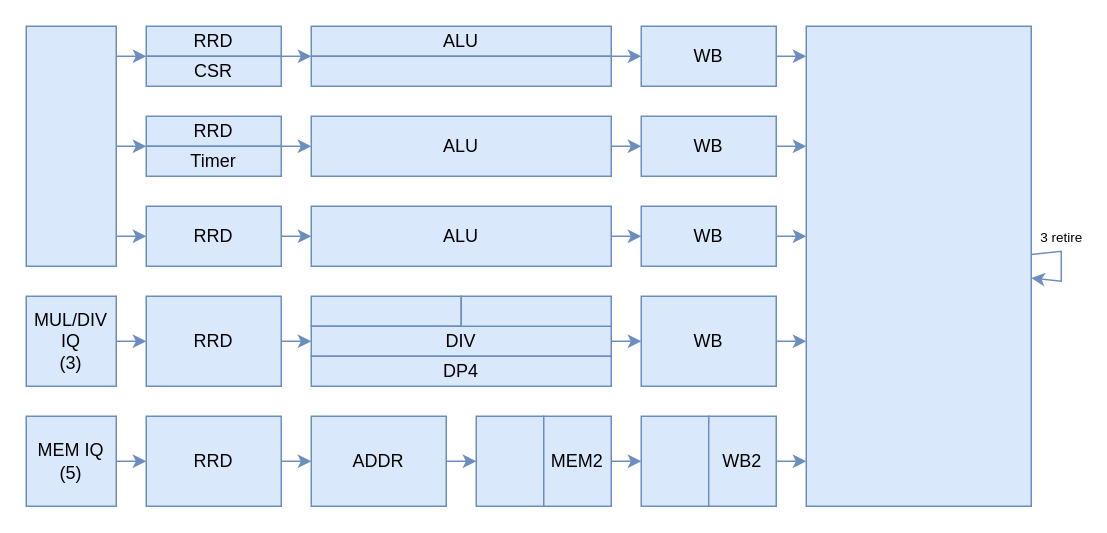
This 1107x533 diagram has some shape labels left out. Here are the shapes that lost their labels. From the top down, the centre of each, then its label:
At (460,70): "Branch".
At (70,145): "ALU IQ (7)".
At (918,265): "ROB (32)".
At (385,310): "MUL1".
At (535,310): "MUL2".
At (509,460): "MEM1".
At (674,460): "WB1".
